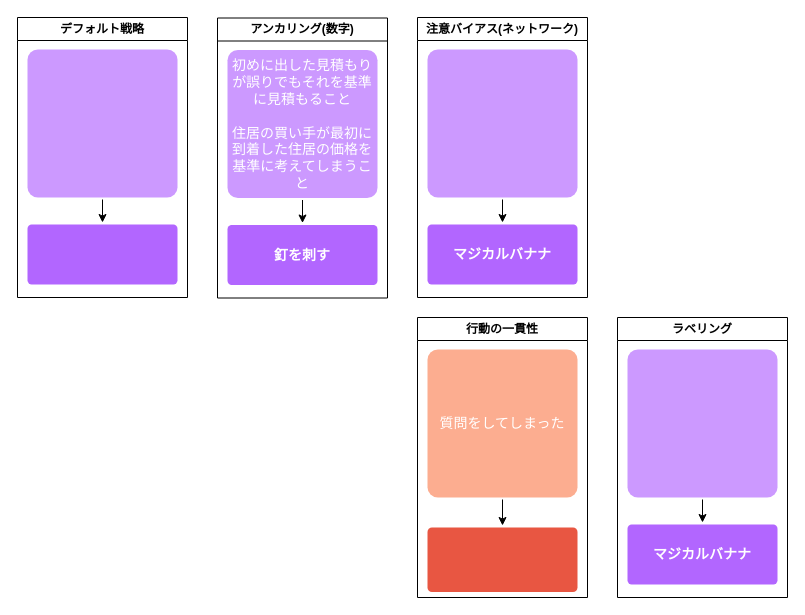
The diagram is 805 pixels wide and 615 high, and some of its shapes have lost their labels. The centre of each missing label's shape, as x and y in pixels:
"Google社内のカフェテリアで、ちょうど目線の高さにある商品を 炭酸飲料から水に変えたところ、水を選ぶ方が47%も増加した Kuang 2012" goes at (102,123).
"デフォルト変更" goes at (102,254).
"内面の状態によって周囲の注意の仕方が変わってしまうこと 薬物依存の患者は望む望まないにかかわらず、薬物に関連する情報を選択する" goes at (502,123).
"自分の意図に沿わない行動をした後、 その行動に合う認識にすり替える" goes at (502,559).
"行動の一貫性の原理を 応用した技術の一つ。 相手の認識するレッテルを利用し、その通りに動かす" goes at (702,423).
